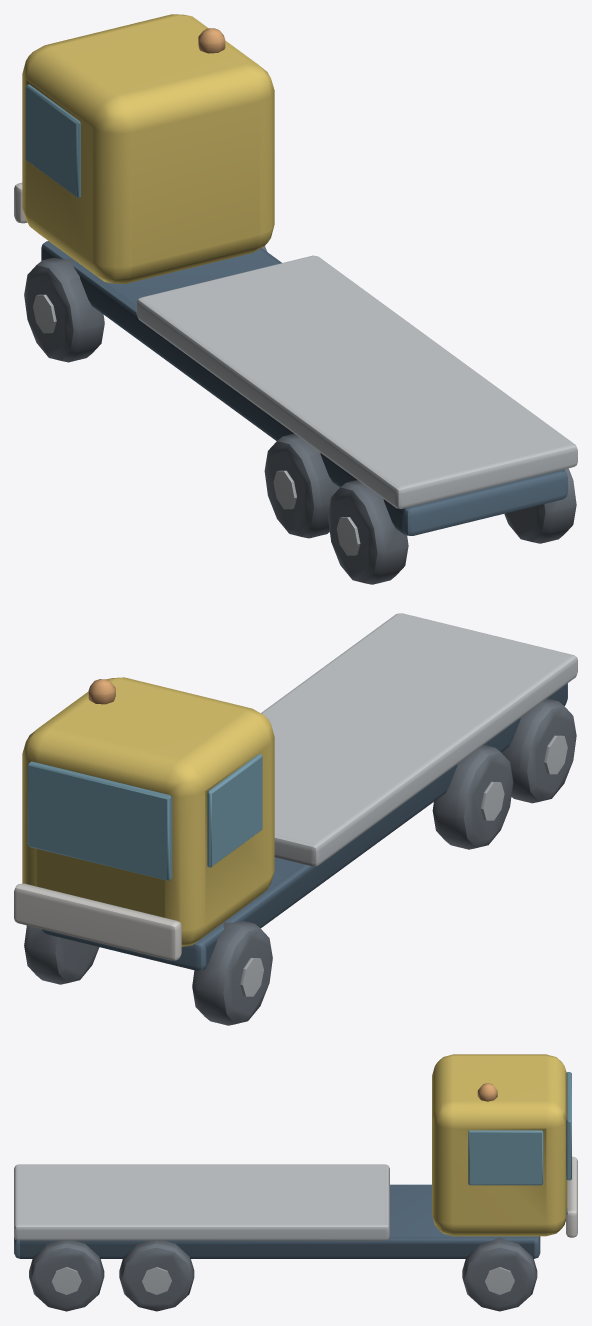
File: tractor.glb
3 views of the same model, one above another, from view 1: azimuth 30°, elevation 25°; view 2: azimuth 150°, elevation 25°; view 3: azimuth 270°, elevation 25° (orthographic). The views are drawn at different scales.
Visible parts, largest first — view 1: tractor; view 2: tractor; view 3: tractor.
Part boxes in pixels (<box>): tractor: <box>14,14,577,584</box>; tractor: <box>14,613,577,1025</box>; tractor: <box>14,1054,577,1311</box>.
Bounding box in the file's own units: 1.15 × 1.57 × 3.75.
